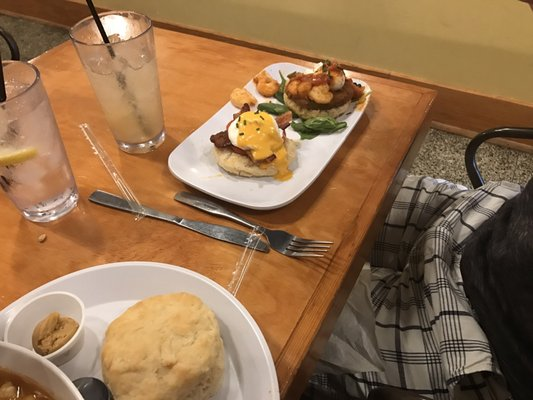burger: (175, 189, 332, 260)
salad: (71, 377, 114, 400)
sandwich: (173, 188, 332, 258), (79, 122, 146, 212)
soup: (282, 61, 369, 137), (210, 111, 293, 179)
sushi: (1, 262, 281, 400), (0, 290, 86, 368), (0, 341, 87, 400)
